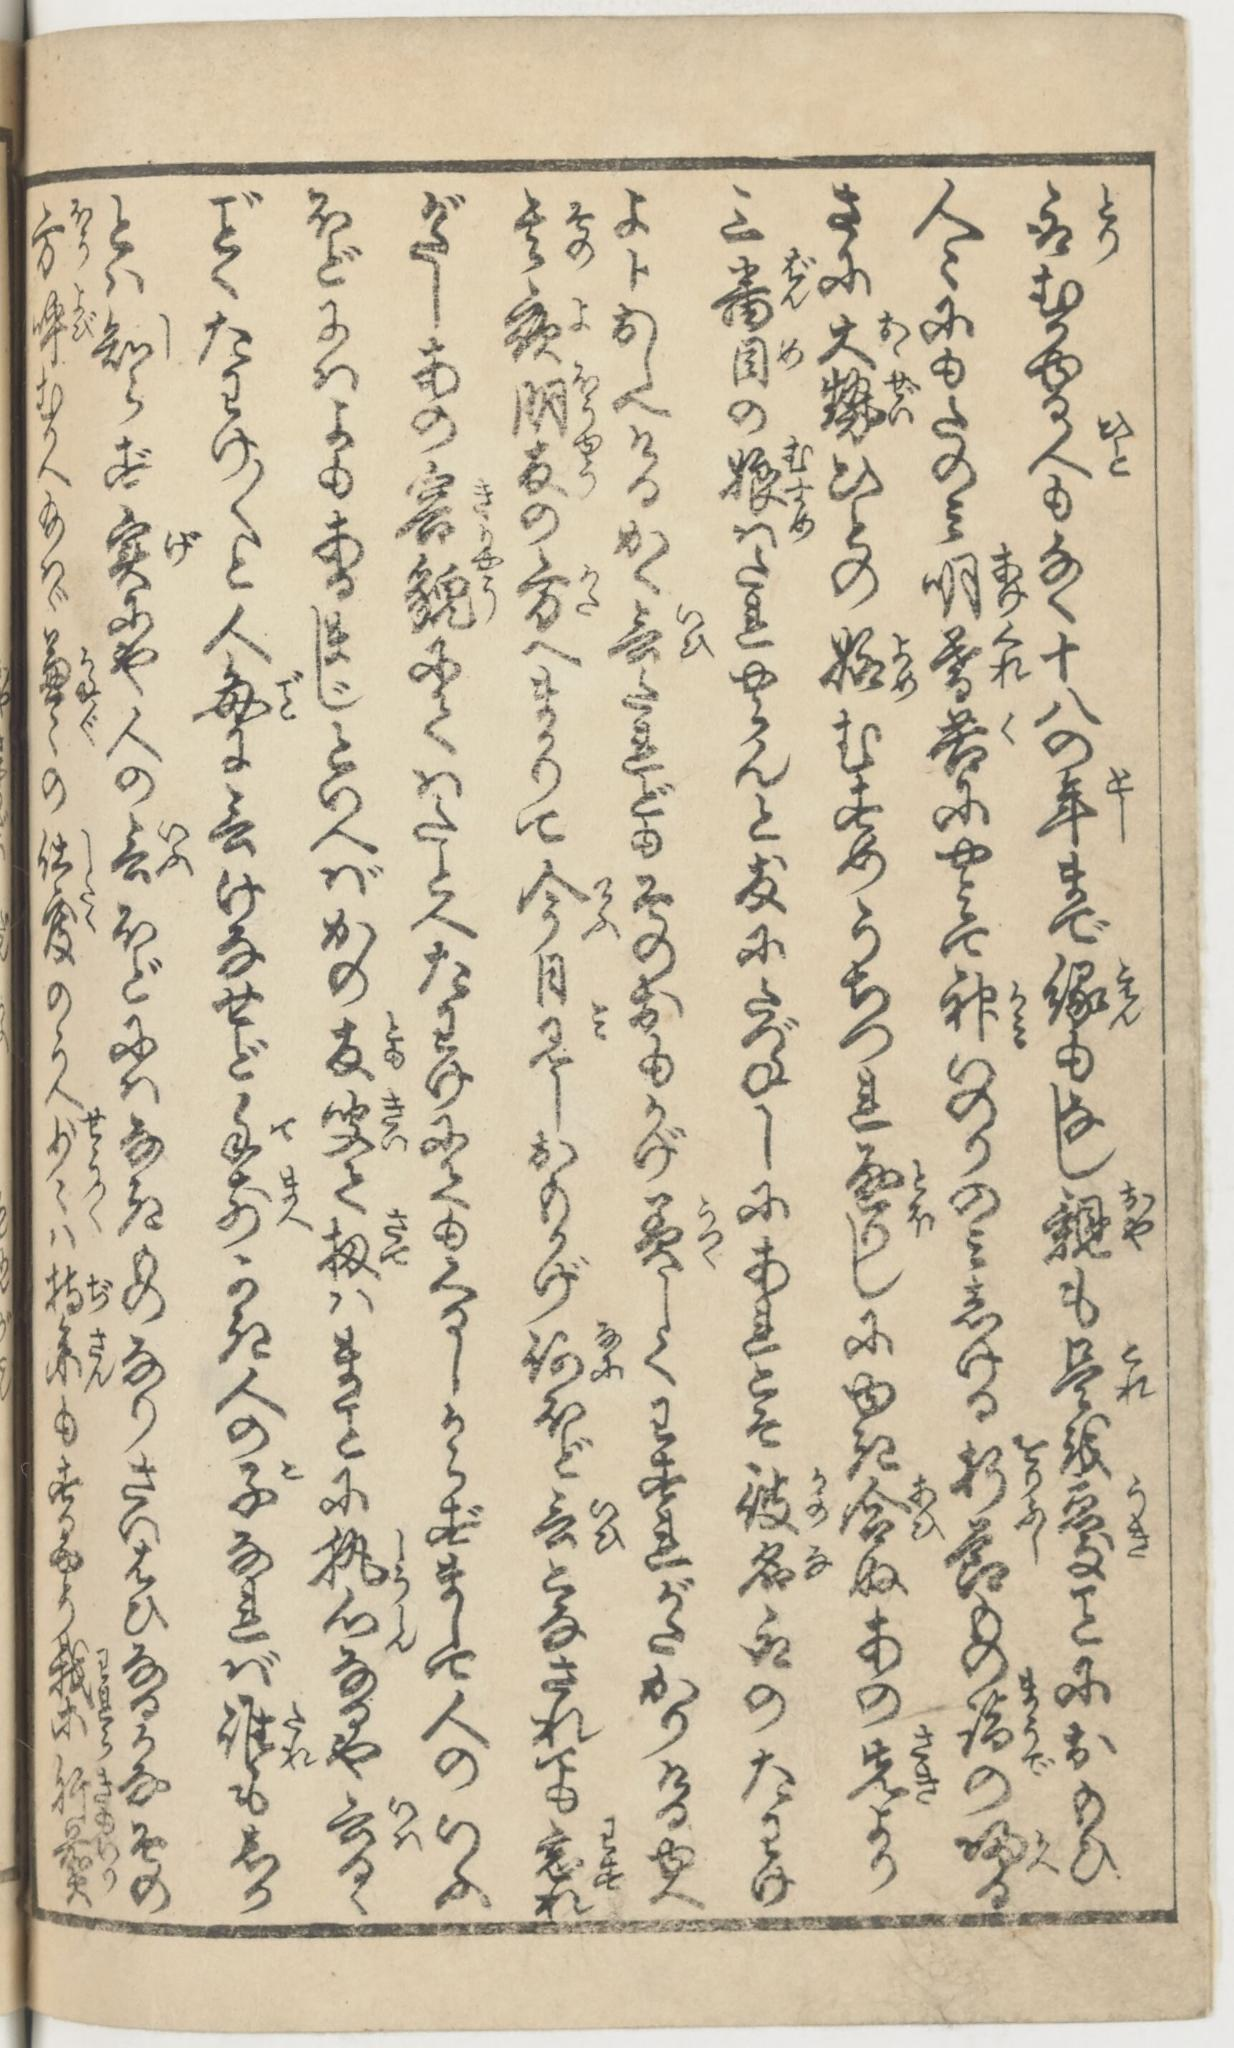MainZone-Character: (715, 433, 819, 550), (949, 1669, 1056, 1777), (1034, 1181, 1165, 1265), (1060, 1473, 1157, 1581), (37, 623, 111, 761), (211, 1166, 317, 1261), (845, 1138, 939, 1246), (1047, 1328, 1162, 1415), (1016, 174, 1133, 259), (1037, 949, 1154, 1033), (512, 860, 623, 946), (947, 1510, 1053, 1600), (1034, 765, 1140, 853), (396, 461, 504, 546), (832, 1472, 946, 1552), (817, 617, 920, 707), (816, 366, 923, 449), (196, 655, 308, 734), (399, 547, 501, 633), (715, 244, 813, 334), (213, 1693, 314, 1779), (306, 1521, 414, 1602), (99, 511, 208, 591), (41, 1106, 107, 1238), (927, 617, 1029, 701), (518, 1317, 626, 1394), (1023, 417, 1148, 484), (920, 543, 1031, 617), (509, 186, 601, 275), (632, 1189, 727, 1276), (936, 964, 1029, 1050), (608, 594, 712, 671), (730, 1456, 830, 1535), (528, 1483, 629, 1562), (852, 1722, 942, 1811), (500, 281, 597, 363), (314, 1084, 414, 1163), (947, 1432, 1048, 1510), (513, 546, 602, 632), (528, 1814, 629, 1890), (111, 810, 199, 897), (325, 1782, 425, 1856), (930, 701, 1021, 780), (323, 1208, 415, 1284), (208, 1091, 303, 1164), (94, 306, 183, 382), (734, 1535, 833, 1602), (958, 1818, 1064, 1880), (313, 1011, 409, 1078), (519, 433, 604, 509), (529, 1001, 617, 1074), (506, 366, 599, 433), (814, 309, 917, 370), (31, 892, 102, 977), (39, 1317, 116, 1396), (304, 1600, 418, 1652), (28, 281, 94, 369), (47, 1758, 118, 1837), (219, 1456, 308, 1518), (719, 332, 809, 394), (26, 197, 98, 274), (31, 822, 105, 892), (42, 1635, 116, 1704), (53, 1837, 120, 1909), (39, 1258, 114, 1318), (42, 1703, 118, 1761)
MainZone-Ruby: (1016, 1668, 1060, 1780), (79, 1107, 111, 1233), (782, 434, 817, 549), (1116, 1179, 1161, 1255), (1094, 413, 1140, 483), (73, 642, 104, 749), (579, 1488, 624, 1559), (901, 1151, 939, 1233), (987, 543, 1031, 613), (987, 616, 1029, 688), (1116, 1333, 1157, 1406), (905, 1722, 940, 1807), (1010, 1434, 1050, 1508), (1123, 1475, 1154, 1570), (151, 812, 196, 876), (1110, 952, 1146, 1031), (80, 1318, 117, 1397), (668, 598, 712, 663), (382, 1791, 424, 1855), (580, 869, 618, 941), (911, 1470, 946, 1548), (1094, 178, 1127, 259), (563, 196, 598, 272), (278, 1698, 313, 1774), (778, 246, 816, 315), (887, 628, 921, 705), (1104, 764, 1136, 843), (586, 1319, 624, 1385), (694, 1192, 725, 1273), (377, 1087, 411, 1160), (880, 370, 921, 430), (278, 1164, 313, 1233), (469, 549, 500, 626), (161, 521, 208, 571), (570, 432, 605, 497), (379, 1208, 415, 1271), (272, 663, 306, 730), (874, 307, 917, 360), (465, 475, 497, 543), (595, 1815, 623, 1889), (379, 1011, 409, 1077), (569, 361, 598, 430), (1023, 1826, 1061, 1878), (1004, 976, 1031, 1052), (385, 1527, 412, 1599), (66, 197, 94, 269), (92, 1761, 118, 1836), (803, 1460, 830, 1529), (383, 1602, 418, 1653), (1018, 1508, 1050, 1564), (573, 563, 602, 622), (268, 1104, 303, 1150), (70, 282, 94, 347), (83, 1264, 113, 1315), (154, 307, 180, 363), (96, 1837, 121, 1896), (77, 829, 101, 891), (561, 291, 592, 336), (800, 1540, 832, 1583), (95, 1640, 114, 1703), (588, 999, 613, 1046), (997, 705, 1021, 752), (77, 892, 101, 938), (96, 1704, 116, 1760), (778, 335, 806, 372), (278, 1456, 307, 1489)
